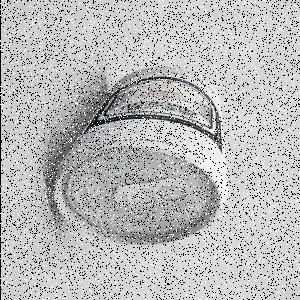Can: (52, 67, 229, 247)
